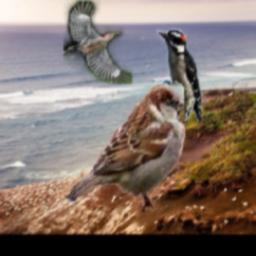Sparrow: (65, 86, 187, 213)
Woodpecker: (65, 1, 133, 84), (158, 29, 203, 121)
